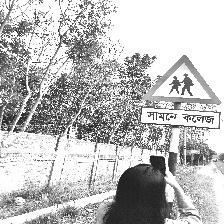College-in-front: (116, 54, 224, 183)
